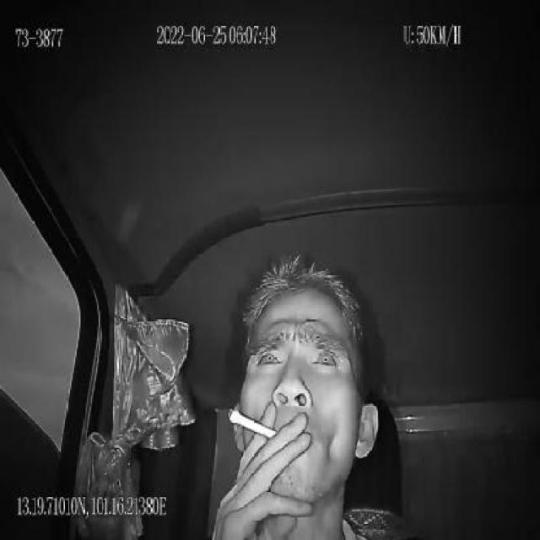smoking: (230, 409, 279, 440)
